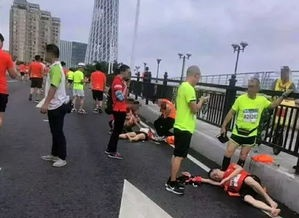10+: (1, 31, 299, 216)
down: (181, 158, 283, 217), (109, 110, 168, 146)
